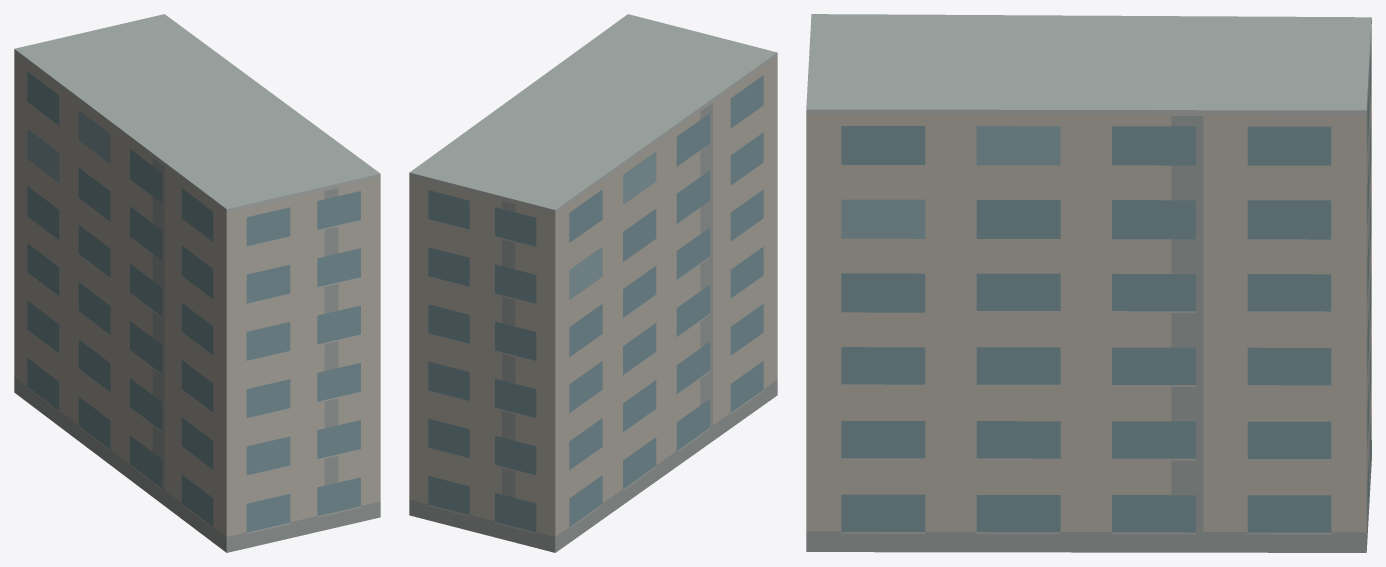
Rendered from survey-upis-32904785.glb.
3 renders of one model, left to right at view 1: azimuth 30°, elevation 25°; view 2: azimuth 150°, elevation 25°; view 3: azimuth 270°, elevation 25°, orthographic. The views are drawn at different scales.
Visible parts, largest first — view 1: survey-upis-32904785.tmp; view 2: survey-upis-32904785.tmp; view 3: survey-upis-32904785.tmp.
Boxes of the visible parts, x1,y1,x2,y2 form: survey-upis-32904785.tmp: [14, 14, 380, 552]; survey-upis-32904785.tmp: [409, 14, 777, 552]; survey-upis-32904785.tmp: [806, 14, 1371, 552].
Size of the model in its own units: 8.56 by 18.3 by 21.21.
